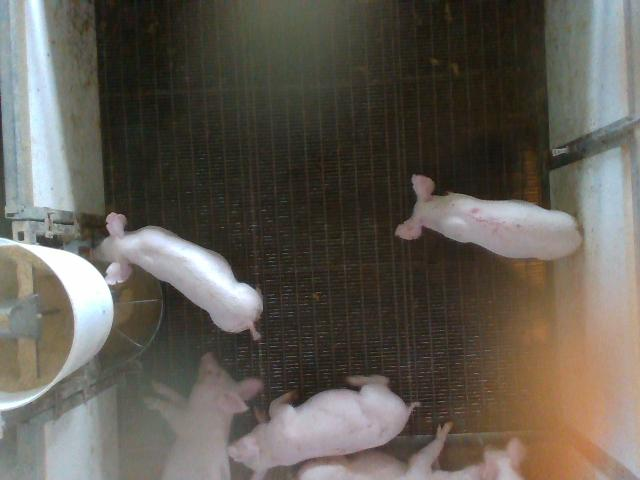pig-5: (396, 176, 582, 259)
